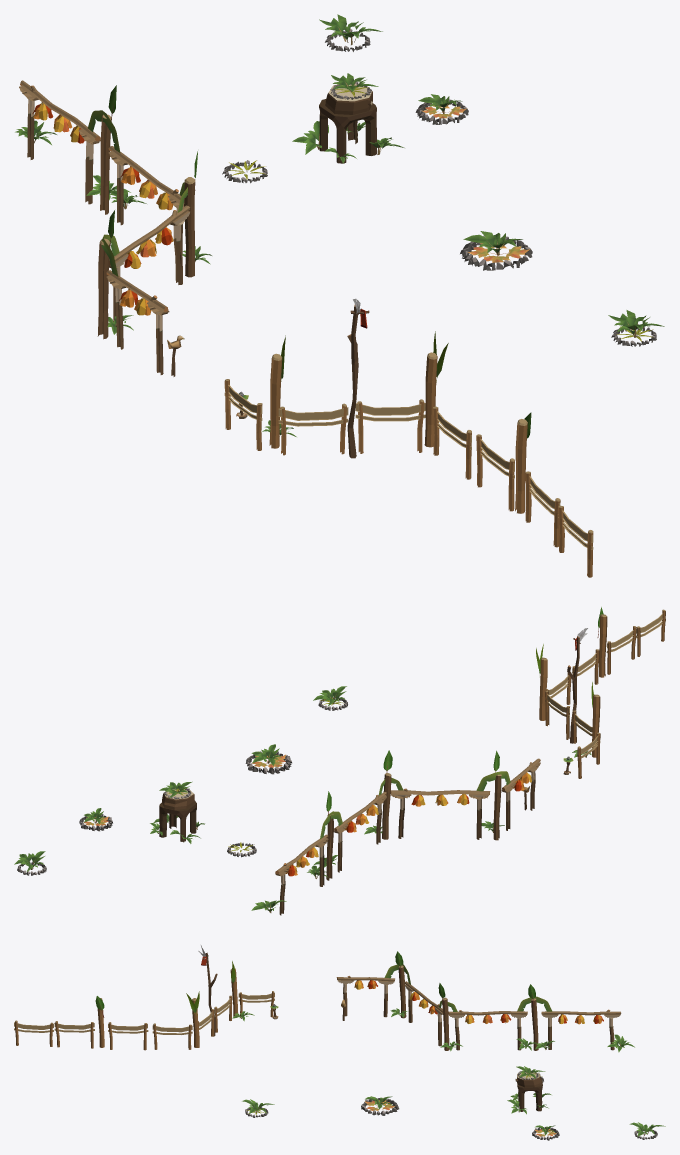
3 renders of one model, top to bottom at view 1: azimuth 30°, elevation 25°; view 2: azimuth 150°, elevation 25°; view 3: azimuth 270°, elevation 25°, orthographic. The views are drawn at different scales.
Visible parts, largest first — view 1: nestStage_25; view 2: nestStage_25; view 3: nestStage_25.
Part boxes in pixels (x1,y1,x2,y2): nestStage_25: (15, 14, 664, 577); nestStage_25: (14, 607, 665, 915); nestStage_25: (14, 945, 665, 1140).
Bounding box in the file's own units: 15.25 × 4.78 × 31.9.
